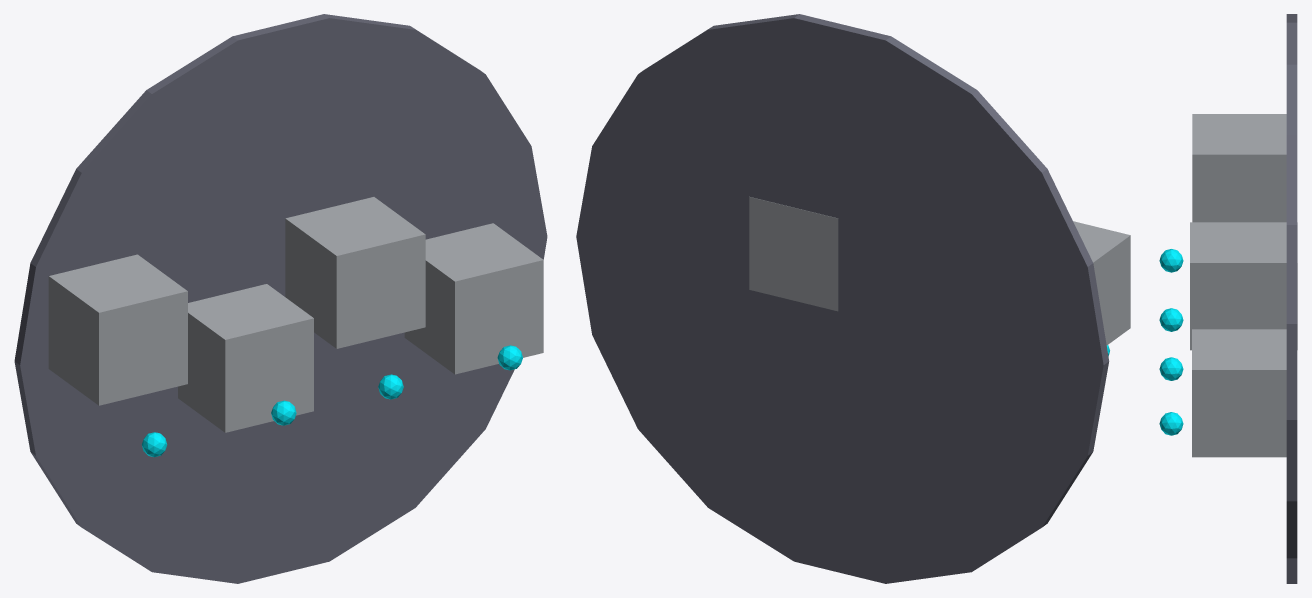
File: 02_local_prop_cluster.glb
3 views of the same model, side by side, from view 1: azimuth 30°, elevation 25°; view 2: azimuth 150°, elevation 25°; view 3: azimuth 270°, elevation 25° (orthographic). The views are drawn at different scales.
Visible parts, largest first — view 1: scatter_base, tech_crate_0, tech_crate_2, tech_crate_1, tech_crate_3; view 2: scatter_base, tech_crate_2, tech_crate_0; view 3: tech_crate_3, tech_crate_2, tech_crate_0, scatter_base, status_light_2, status_light_3, status_light_0, status_light_1.
Boxes of the visible parts, left/top/right/bottom form: scatter_base: left=14, top=14, right=547, bottom=583; tech_crate_0: left=48, top=254, right=187, bottom=405; tech_crate_2: left=285, top=197, right=425, bottom=348; tech_crate_1: left=178, top=284, right=313, bottom=432; tech_crate_3: left=404, top=223, right=543, bottom=374; scatter_base: left=576, top=14, right=1109, bottom=583; tech_crate_2: left=749, top=196, right=838, bottom=311; tech_crate_0: left=1073, top=221, right=1130, bottom=345; tech_crate_3: left=1192, top=329, right=1286, bottom=457; tech_crate_2: left=1190, top=222, right=1297, bottom=350; tech_crate_0: left=1192, top=114, right=1286, bottom=222; scatter_base: left=1286, top=14, right=1297, bottom=583; status_light_2: left=1159, top=357, right=1183, bottom=380; status_light_3: left=1159, top=412, right=1183, bottom=435; status_light_0: left=1159, top=249, right=1183, bottom=272; status_light_1: left=1159, top=308, right=1183, bottom=331.
Bounding box in the file's own units: 1.9 × 1.87 × 0.4586.
